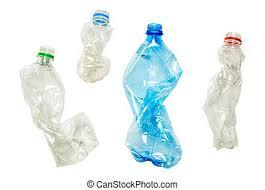plastic: (121, 26, 183, 170), (24, 49, 99, 167), (214, 32, 246, 146), (76, 9, 109, 84)
